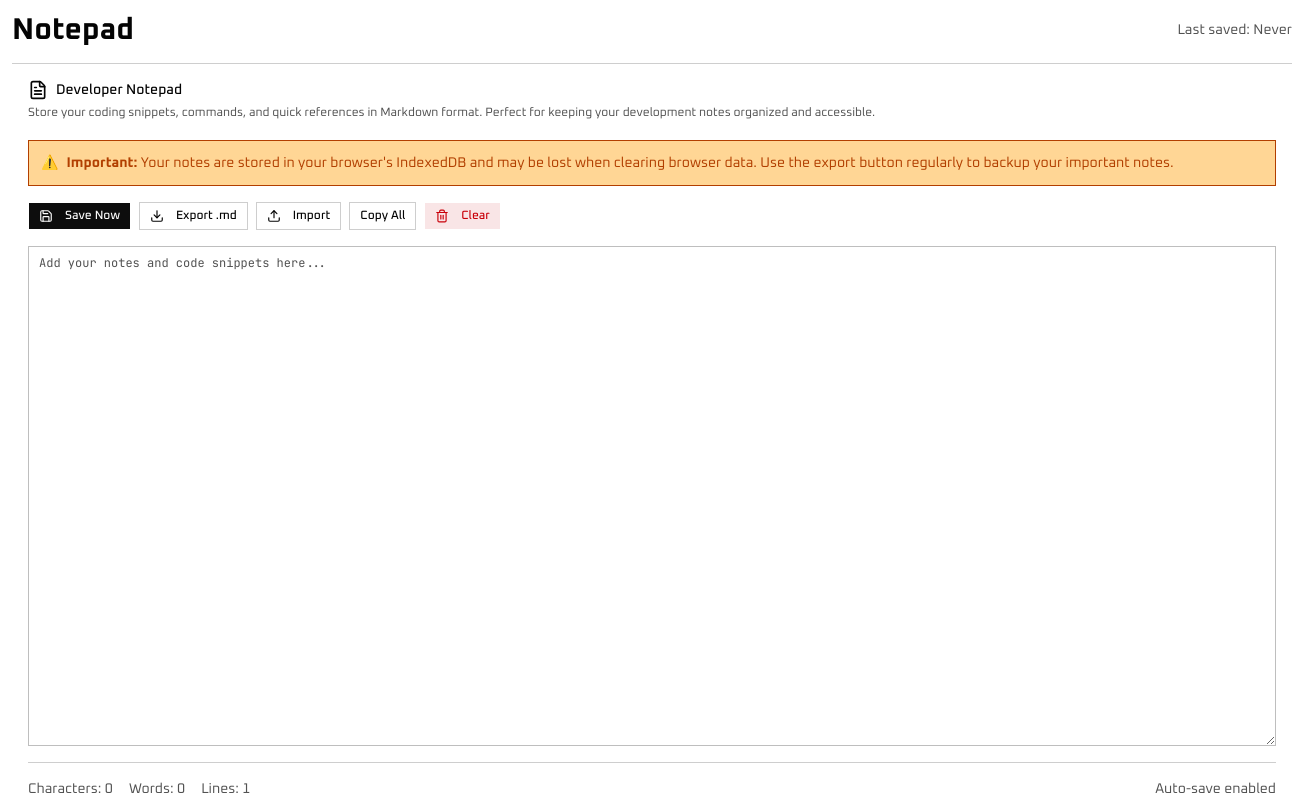
Test case: NotepadPage › updates content and shows character count
// Type some content
Type "Hello World" into the text box with placeholder "Add your notes and code snippets here...".
click(652, 496); type("Hello World")  # box top-left (28, 246), bottom-right (1276, 746)
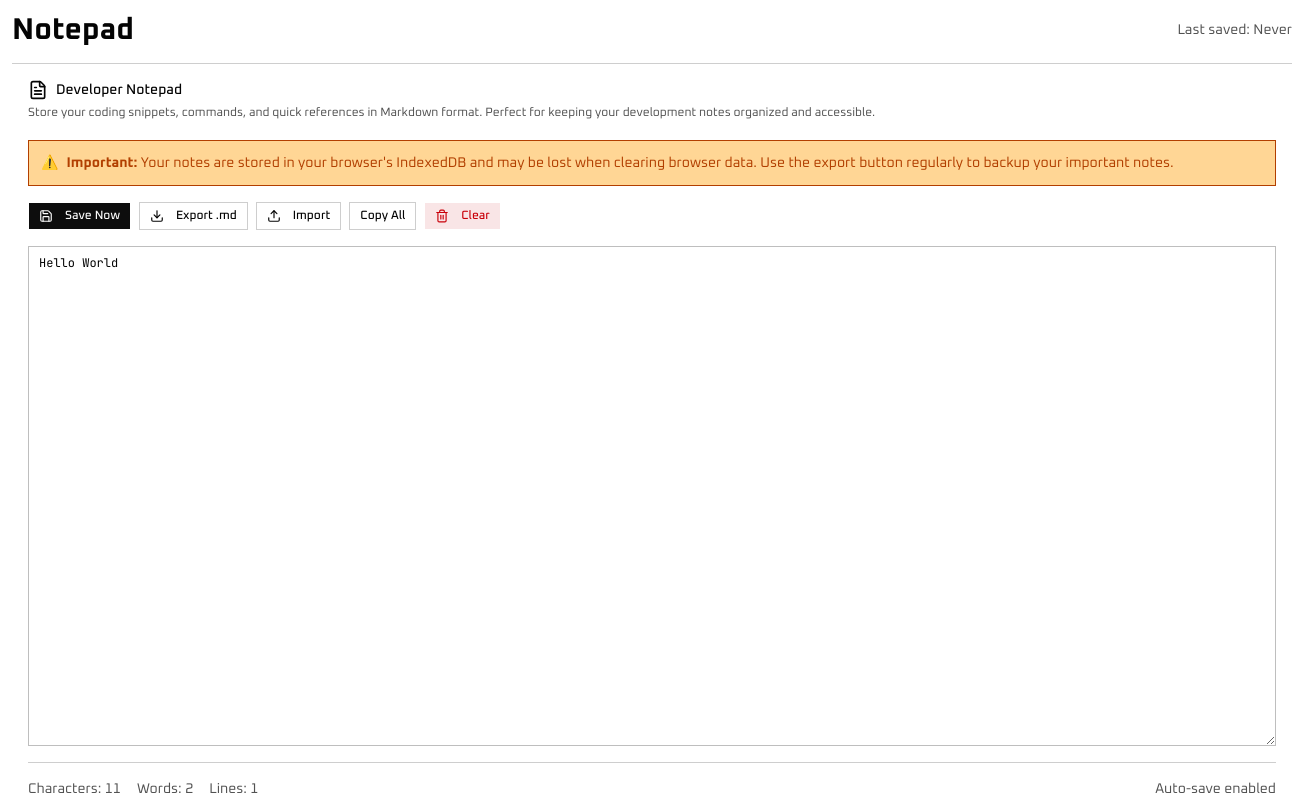
Expected: the text "Lines: 1" is shown, top-left (209, 778), bottom-right (258, 798)
Now the text "Characters: 11" is shown, box top-left (28, 778), bottom-right (121, 798)
Now the text "Words: 2" is shown, box top-left (137, 778), bottom-right (193, 798)
